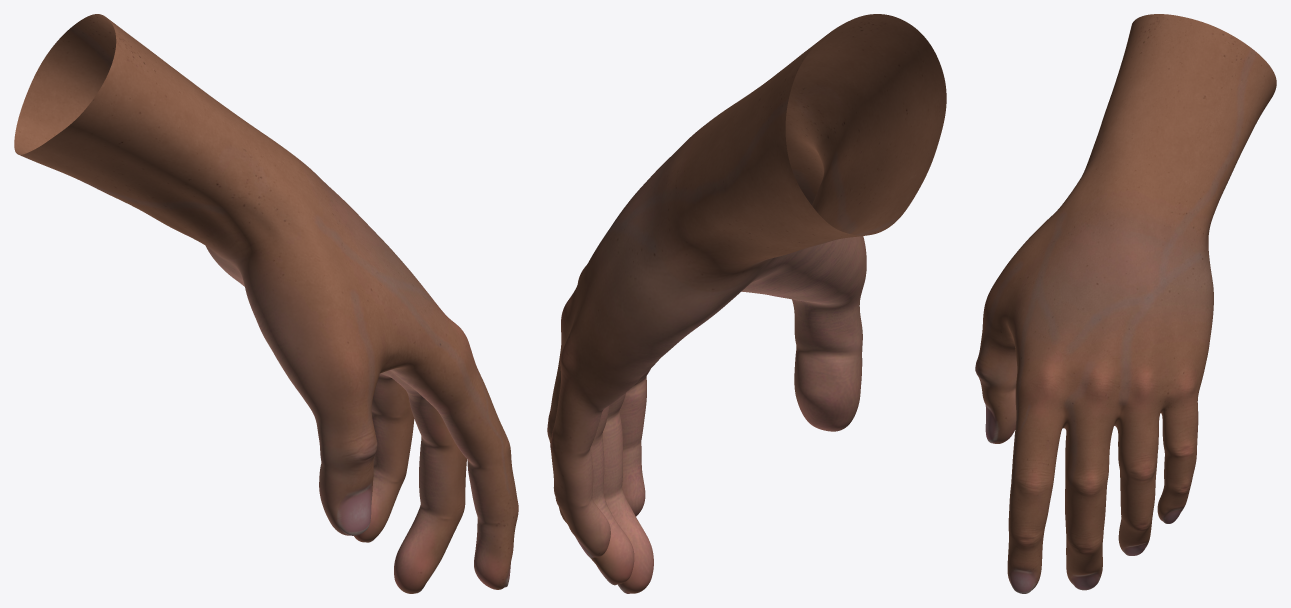
File: hand.glb
3 views of the same model, side by side, from view 1: azimuth 30°, elevation 25°; view 2: azimuth 150°, elevation 25°; view 3: azimuth 270°, elevation 25° (orthographic). The views are drawn at different scales.
Parts seen in each view (by area): view 1: Hands_Low:Group52896; view 2: Hands_Low:Group52896; view 3: Hands_Low:Group52896.
Part boxes in pixels (x1,y1,x2,y2): Hands_Low:Group52896: [14, 14, 518, 593]; Hands_Low:Group52896: [547, 14, 946, 593]; Hands_Low:Group52896: [975, 14, 1276, 593].
Size of the model in its own units: 1.36 by 2 by 1.14.
1 material, 1 textured.
